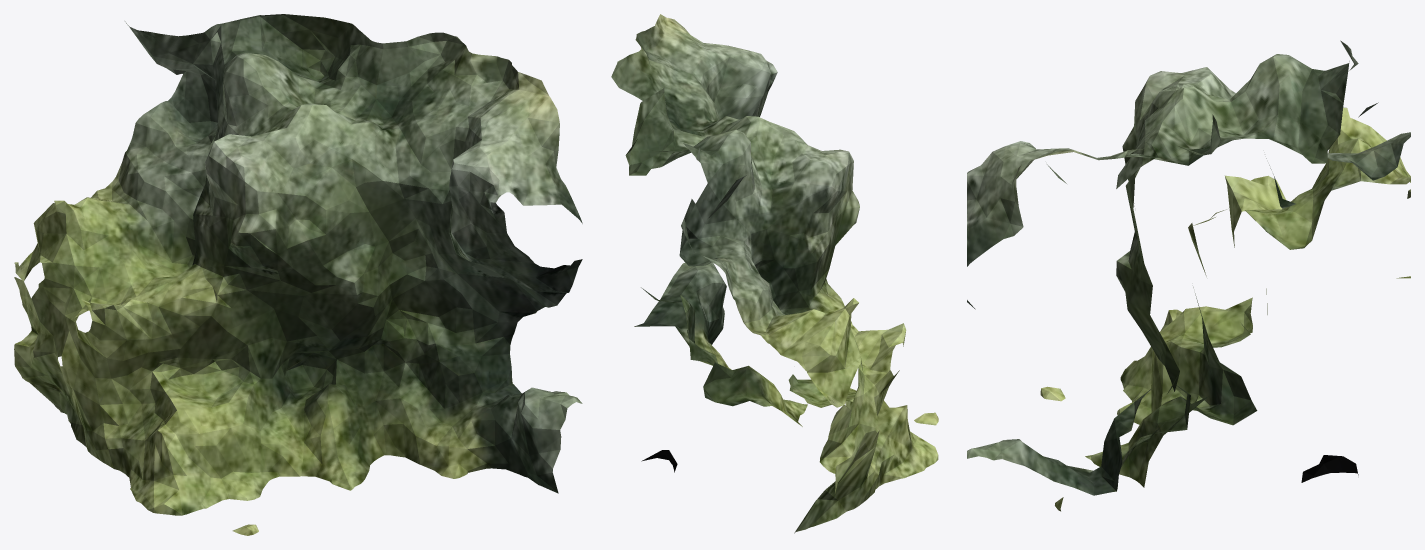
3 views of the same model, side by side, from view 1: azimuth 30°, elevation 25°; view 2: azimuth 150°, elevation 25°; view 3: azimuth 270°, elevation 25° (orthographic). The views are drawn at different scales.
Bounding box in the file's own units: 5.9 × 5.9 × 5.9.
5 materials, 5 textured.
